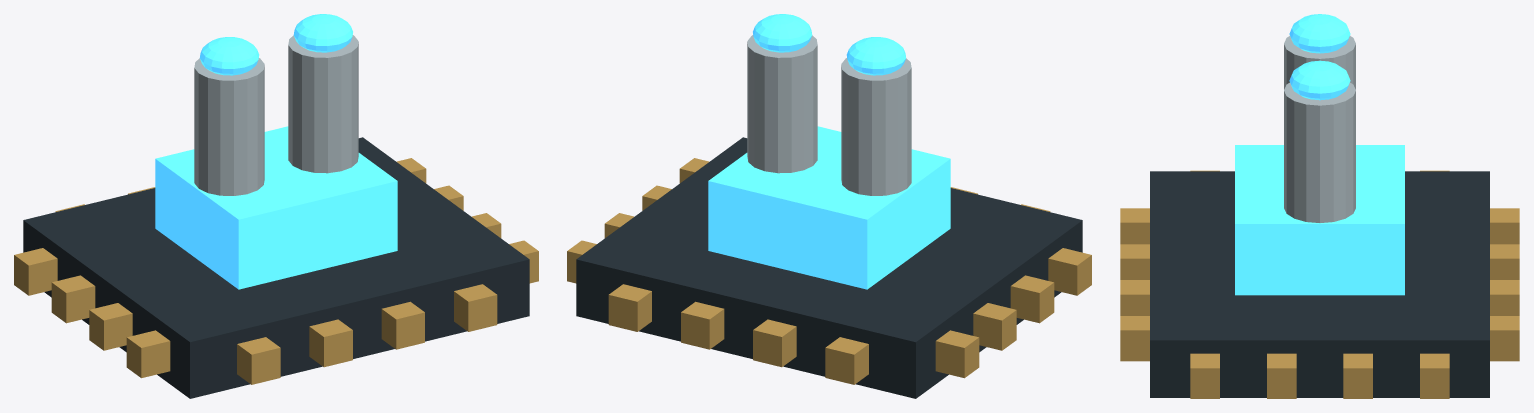
The model's file is plugin-security-attack.glb.
The picture shows the model from 3 angles, left to right: view 1: azimuth 30°, elevation 25°; view 2: azimuth 150°, elevation 25°; view 3: azimuth 270°, elevation 25°; orthographic projection.
Visible parts, largest first — view 1: plugin circuit substrate, processor block, overdrive capacitor, overdrive capacitor.001, charged cap.001, charged cap, gold edge connector, gold edge connector.009, gold edge connector.011, gold edge connector.008, gold edge connector.010, gold edge connector.002 (+3 smaller); view 2: plugin circuit substrate, processor block, overdrive capacitor, overdrive capacitor.001, charged cap.001, charged cap, gold edge connector.003, gold edge connector.013, gold edge connector.015, gold edge connector.012, gold edge connector.014, gold edge connector.001 (+3 smaller); view 3: plugin circuit substrate, processor block, overdrive capacitor.001, charged cap, charged cap.001, overdrive capacitor, gold edge connector.004, gold edge connector.005, gold edge connector.006, gold edge connector.007, gold edge connector.011, gold edge connector.015 (+6 smaller).
Boxes of the visible parts, bbox=[...] form: plugin circuit substrate: bbox=[23, 137, 529, 398]; processor block: bbox=[155, 126, 397, 289]; overdrive capacitor: bbox=[194, 58, 264, 195]; overdrive capacitor.001: bbox=[288, 35, 358, 173]; charged cap.001: bbox=[293, 14, 352, 52]; charged cap: bbox=[200, 37, 259, 75]; gold edge connector: bbox=[126, 330, 170, 378]; gold edge connector.009: bbox=[309, 319, 352, 367]; gold edge connector.011: bbox=[454, 284, 497, 331]; gold edge connector.008: bbox=[237, 337, 280, 384]; gold edge connector.010: bbox=[381, 301, 424, 349]; gold edge connector.002: bbox=[51, 275, 95, 323]; plugin circuit substrate: bbox=[576, 137, 1082, 398]; processor block: bbox=[708, 126, 950, 289]; overdrive capacitor: bbox=[841, 58, 911, 195]; overdrive capacitor.001: bbox=[747, 35, 817, 173]; charged cap.001: bbox=[753, 14, 812, 52]; charged cap: bbox=[846, 37, 905, 75]; gold edge connector.003: bbox=[935, 330, 979, 378]; gold edge connector.013: bbox=[753, 319, 796, 367]; gold edge connector.015: bbox=[608, 284, 651, 331]; gold edge connector.012: bbox=[825, 337, 868, 384]; gold edge connector.014: bbox=[681, 301, 724, 349]; gold edge connector.001: bbox=[1010, 275, 1054, 323]; plugin circuit substrate: bbox=[1150, 171, 1489, 397]; processor block: bbox=[1235, 145, 1404, 295]; overdrive capacitor.001: bbox=[1284, 82, 1355, 222]; charged cap: bbox=[1289, 14, 1350, 53]; charged cap.001: bbox=[1289, 60, 1350, 100]; overdrive capacitor: bbox=[1284, 36, 1355, 89]; gold edge connector.004: bbox=[1190, 353, 1219, 398]; gold edge connector.005: bbox=[1267, 353, 1296, 398]; gold edge connector.006: bbox=[1343, 353, 1372, 398]; gold edge connector.007: bbox=[1420, 353, 1449, 398]; gold edge connector.011: bbox=[1120, 316, 1149, 361]; gold edge connector.015: bbox=[1490, 316, 1519, 361].
Size of the model in its own units: 1.1 by 0.705 by 0.94.
